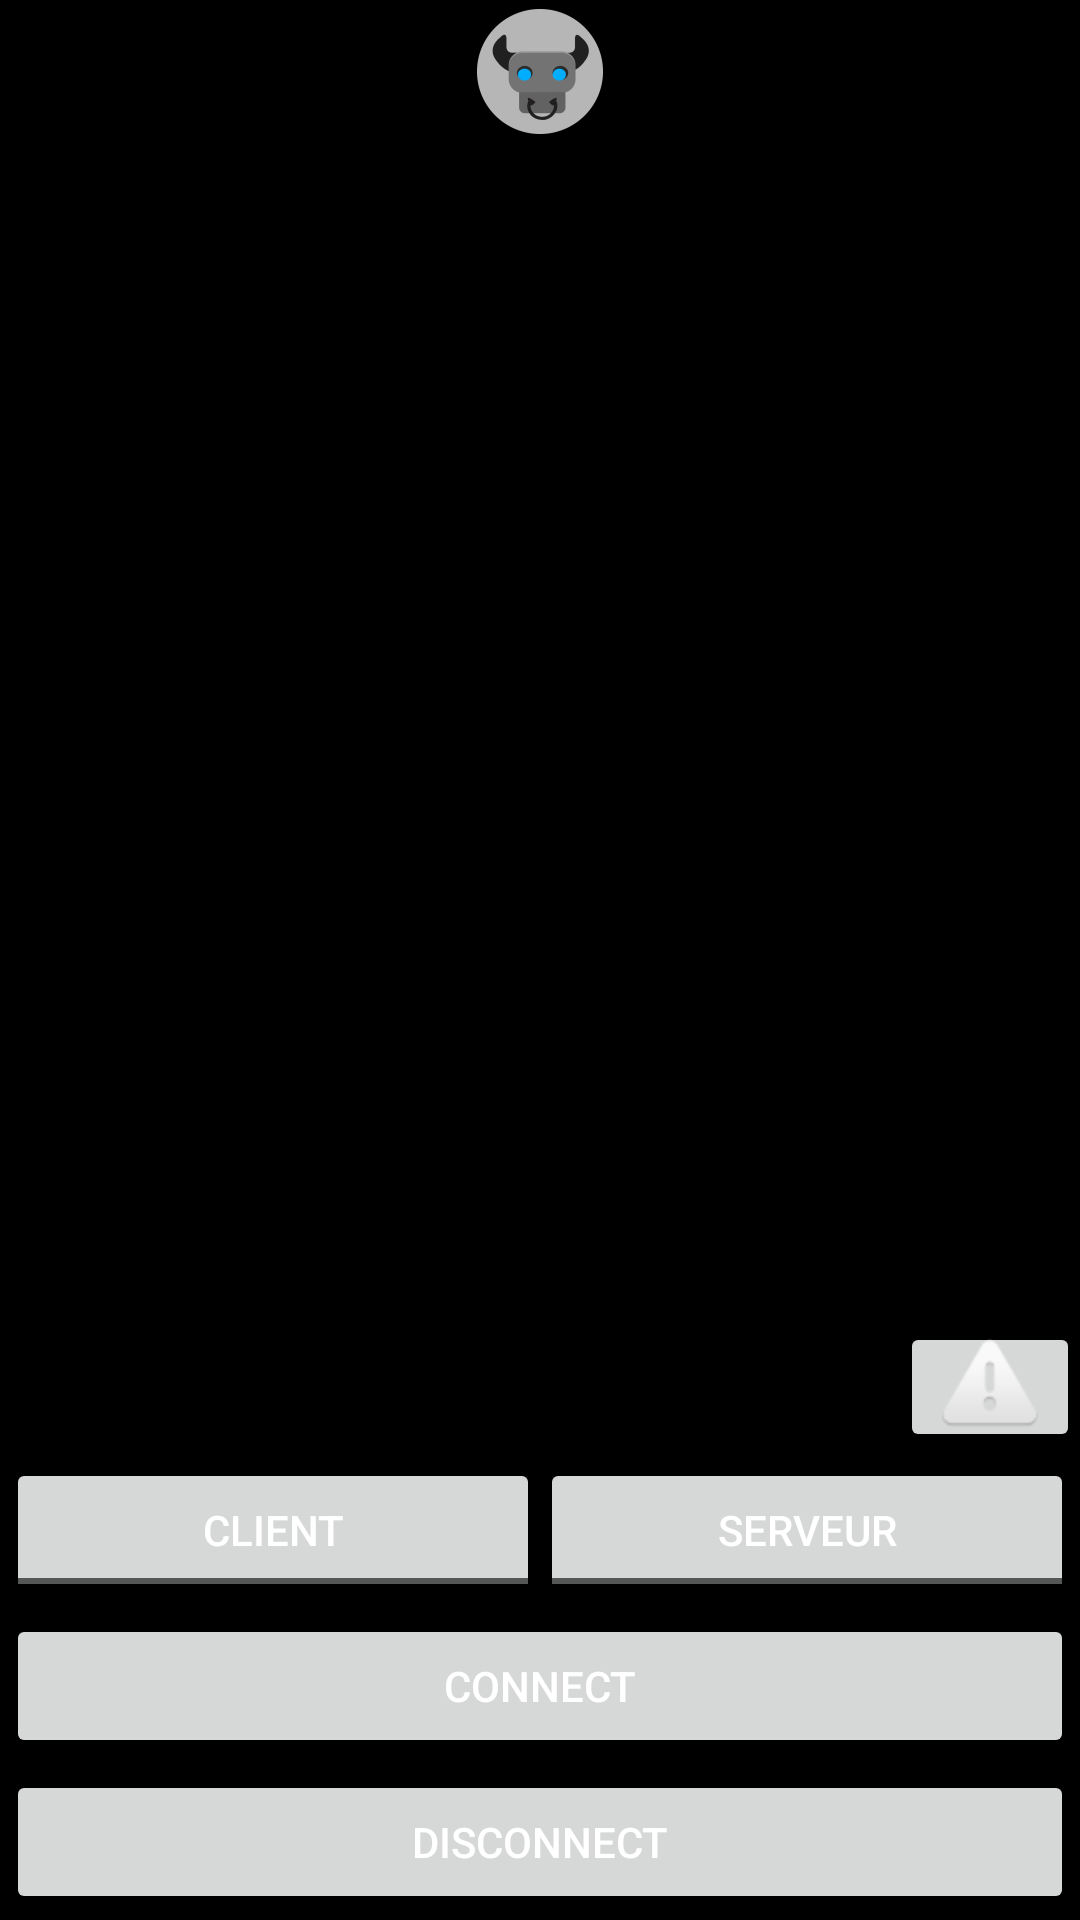

Point at icon controls on the screen. Image size 1080×1920, points as (x=x, y=y).
alert: (x=990, y=1386)
